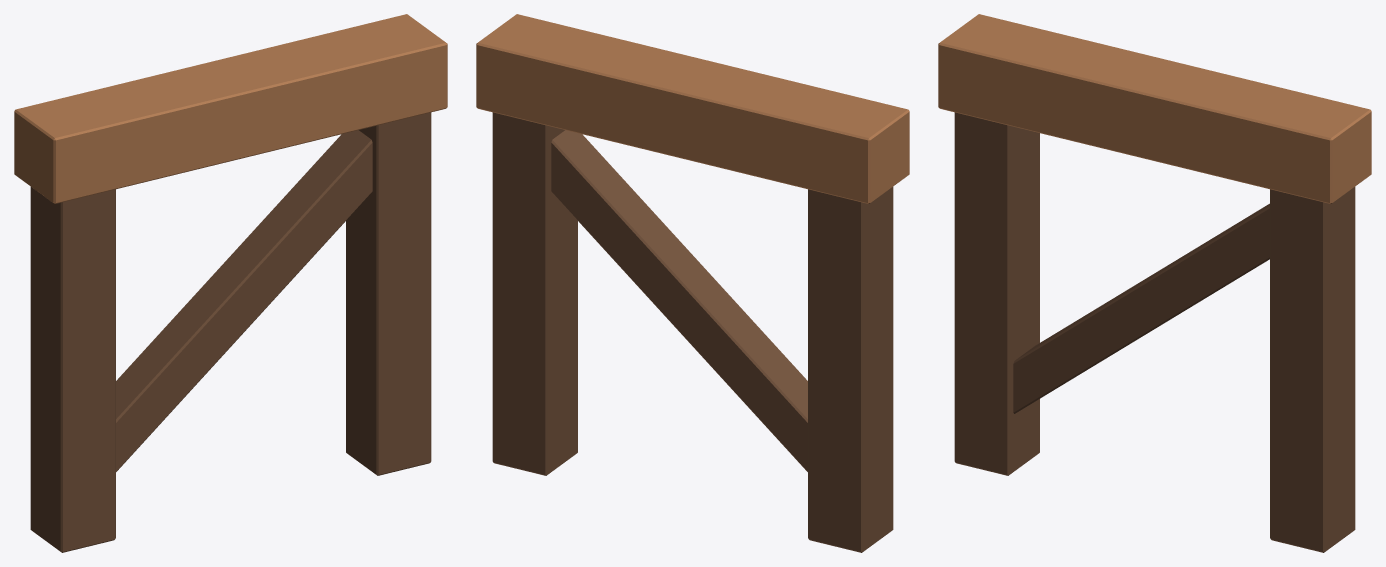
The model's file is wood_bridge_support_01.glb.
3 views of the same model, side by side, from view 1: azimuth 30°, elevation 25°; view 2: azimuth 150°, elevation 25°; view 3: azimuth 330°, elevation 25° (orthographic).
Visible parts, largest first — view 1: wood_bridge_support_01; view 2: wood_bridge_support_01; view 3: wood_bridge_support_01.
Part boxes in pixels (box(x1,y1,x2,y2)): wood_bridge_support_01: box(14, 14, 447, 552); wood_bridge_support_01: box(476, 14, 909, 552); wood_bridge_support_01: box(938, 14, 1371, 552).
Size of the model in its own units: 1 by 1.02 by 0.18.
